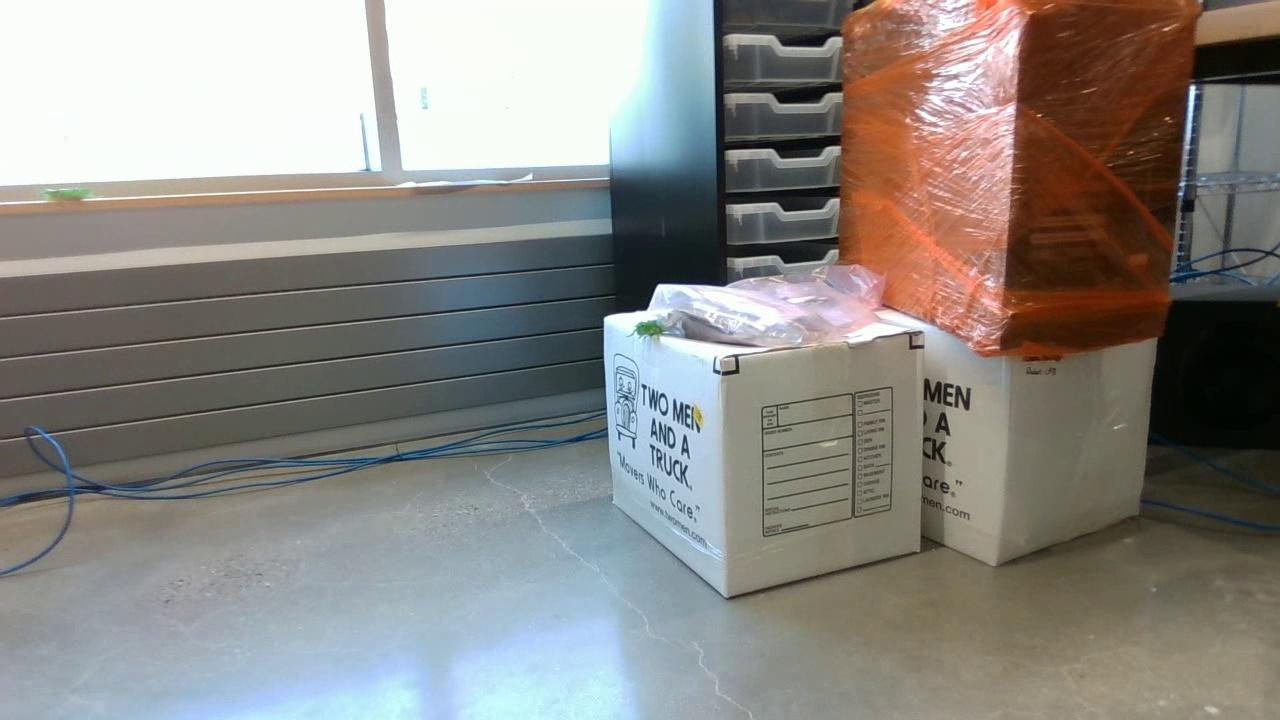grasshopper: (623, 315, 675, 343)
